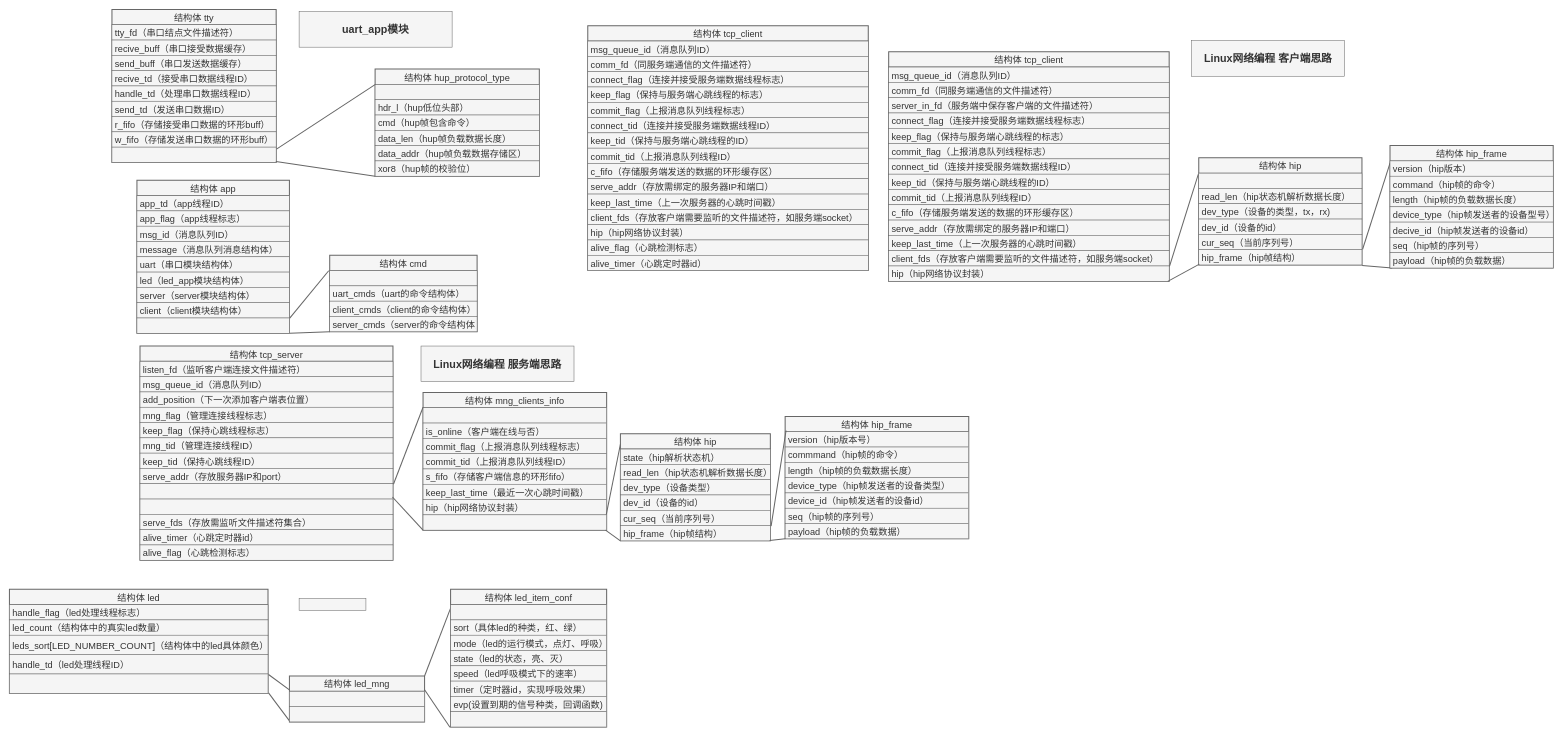
The diagram is 1564 pixels wide and 737 high, and some of its shapes have lost their labels. Each missing label, with the centre of its shape:
client_addr（存储客户端IP和port）: pixel 515 522
client_fd（客户端socket）: pixel 515 415
cmds（解析app线程状态机结构体）: pixel 212 325
dev_name（具体led文件的路径）: pixel 528 612
hdr_h（hup高位头部）: pixel 457 92
hup_frame（hup帧结构封装）: pixel 193 154
keep_max_time（最大心跳间隔时间）: pixel 266 506
led_app模块: pixel 332 604
led_cmds（led的命令结构体）: pixel 403 278
led_green（led具体属性的封装）: pixel 357 699
led_mng（实际led）: pixel 138 683
led_red（led具体属性的封装）: pixel 357 714
mng_client_table[TCP_MAX_CLIENT]（存放客户端信息表）: pixel 266 491
state（hip解析状态机解析）: pixel 1280 180
ts（定时器的时间设置）: pixel 528 719
